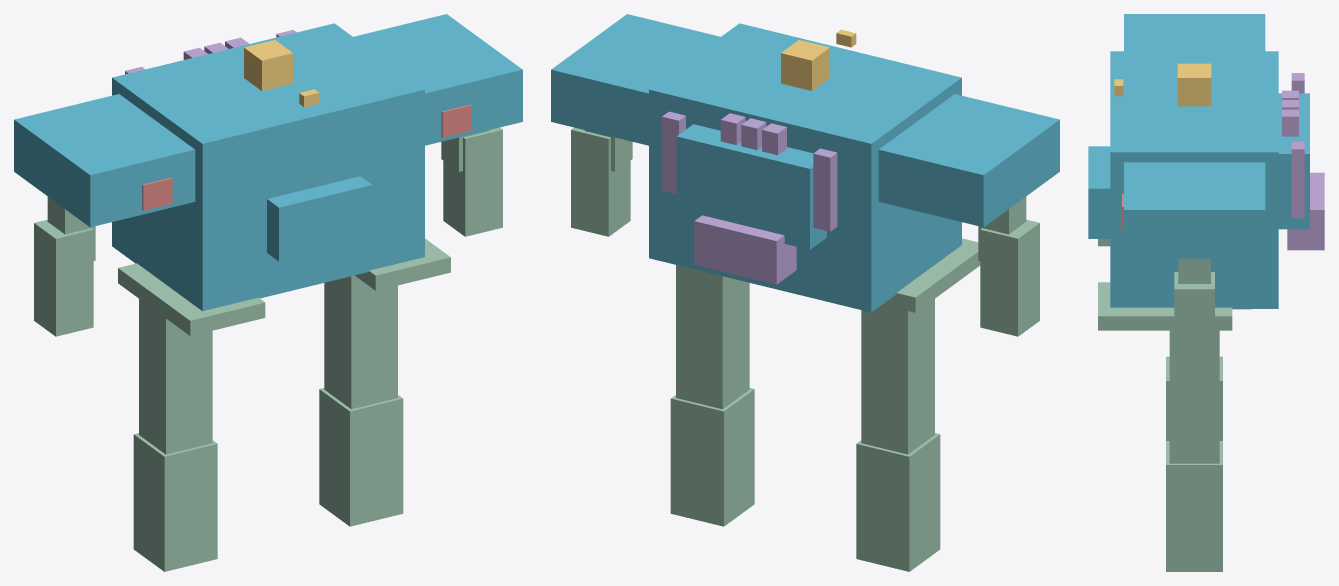
Rendered from mechfall_tzendolg.glb.
3 renders of one model, left to right at view 1: azimuth 30°, elevation 25°; view 2: azimuth 150°, elevation 25°; view 3: azimuth 270°, elevation 25°, orthographic. The views are drawn at different scales.
Parts seen in each view (by area): view 1: TORSO HULL, SHOULDER L, SHOULDER R, UPPER LEG L, UPPER LEG R, LOWER LEG L, LOWER LEG R, REACTOR CORE, FOREARM L, FOREARM R, FOOT L, FOOT R (+5 smaller); view 2: TORSO HULL, SHOULDER L, SHOULDER R, EW BACKPACK, LOWER LEG L, UPPER LEG L, UPPER LEG R, LOWER LEG R, FOREARM L, FOREARM R, FOOT L, THRUSTER 1 (+11 smaller); view 3: TORSO HULL, SHOULDER R, UPPER LEG R, SHOULDER L, LOWER LEG R, FOREARM R, EW BACKPACK, FOOT R, REACTOR CORE, COCKPIT CANOPY, THRUSTER 4, RADIATOR R (+3 smaller).
Part boxes in pixels (<box>): TORSO HULL: <box>112,23,424,311</box>; SHOULDER L: <box>14,94,195,227</box>; SHOULDER R: <box>353,14,522,145</box>; UPPER LEG L: <box>133,433,217,571</box>; UPPER LEG R: <box>319,388,403,526</box>; LOWER LEG L: <box>139,299,212,454</box>; LOWER LEG R: <box>324,275,397,409</box>; REACTOR CORE: <box>267,176,372,261</box>; FOREARM L: <box>34,219,93,336</box>; FOREARM R: <box>443,127,502,236</box>; FOOT L: <box>118,263,265,335</box>; FOOT R: <box>355,238,450,290</box>; TORSO HULL: <box>649,23,961,312</box>; SHOULDER L: <box>878,94,1059,227</box>; SHOULDER R: <box>551,14,720,145</box>; EW BACKPACK: <box>676,124,826,249</box>; LOWER LEG L: <box>861,299,934,454</box>; UPPER LEG L: <box>856,433,940,571</box>; UPPER LEG R: <box>670,388,754,526</box>; LOWER LEG R: <box>676,265,749,409</box>; FOREARM L: <box>980,219,1039,336</box>; FOREARM R: <box>571,127,630,236</box>; FOOT L: <box>882,238,980,312</box>; THRUSTER 1: <box>745,227,796,284</box>; TORSO HULL: <box>1110,51,1278,308</box>; SHOULDER R: <box>1124,162,1265,258</box>; UPPER LEG R: <box>1166,441,1222,571</box>; SHOULDER L: <box>1124,14,1265,51</box>; LOWER LEG R: <box>1169,330,1219,463</box>; FOREARM R: <box>1174,272,1214,380</box>; EW BACKPACK: <box>1278,93,1309,229</box>; FOOT R: <box>1098,282,1232,330</box>; REACTOR CORE: <box>1088,146,1110,238</box>; COCKPIT CANOPY: <box>1177,63,1211,106</box>; THRUSTER 4: <box>1287,198,1324,250</box>; RADIATOR R: <box>1291,141,1304,218</box>.
Bounding box in the file's own units: 7.35 × 7.56 × 3.63.
